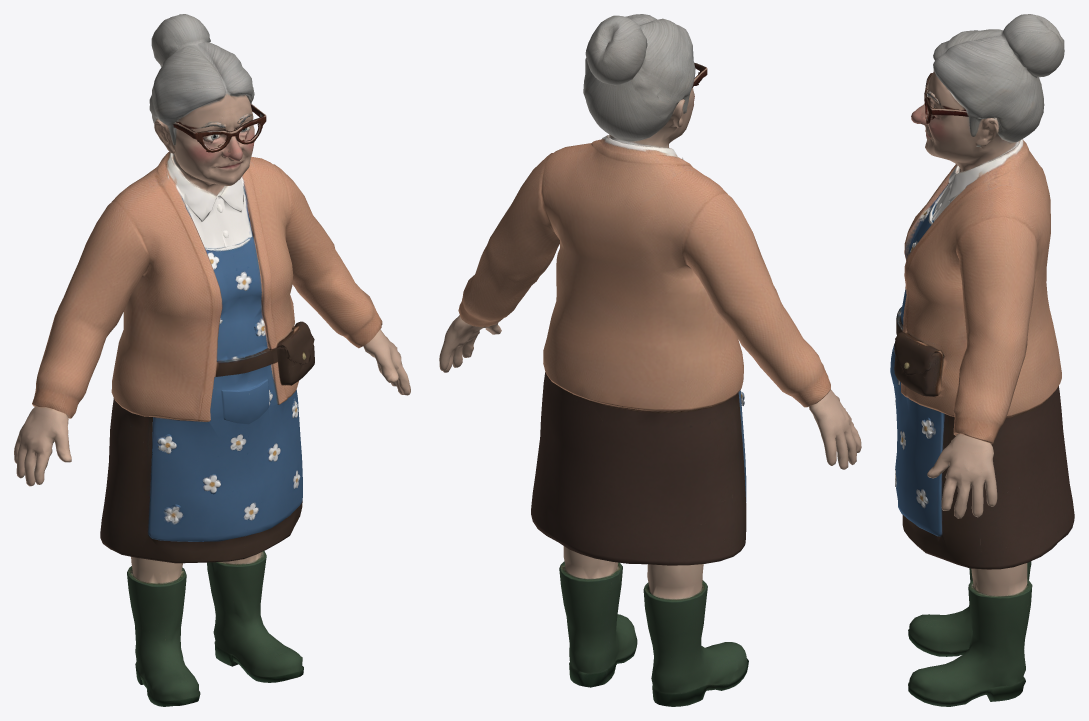
The model's file is terttu_meshy.glb.
The picture shows the model from 3 angles, left to right: view 1: azimuth 30°, elevation 25°; view 2: azimuth 150°, elevation 25°; view 3: azimuth 270°, elevation 25°; orthographic projection. The views are drawn at different scales.
Size of the model in its own units: 0.9935 by 1.6 by 0.4076.
1 material, 1 textured.
